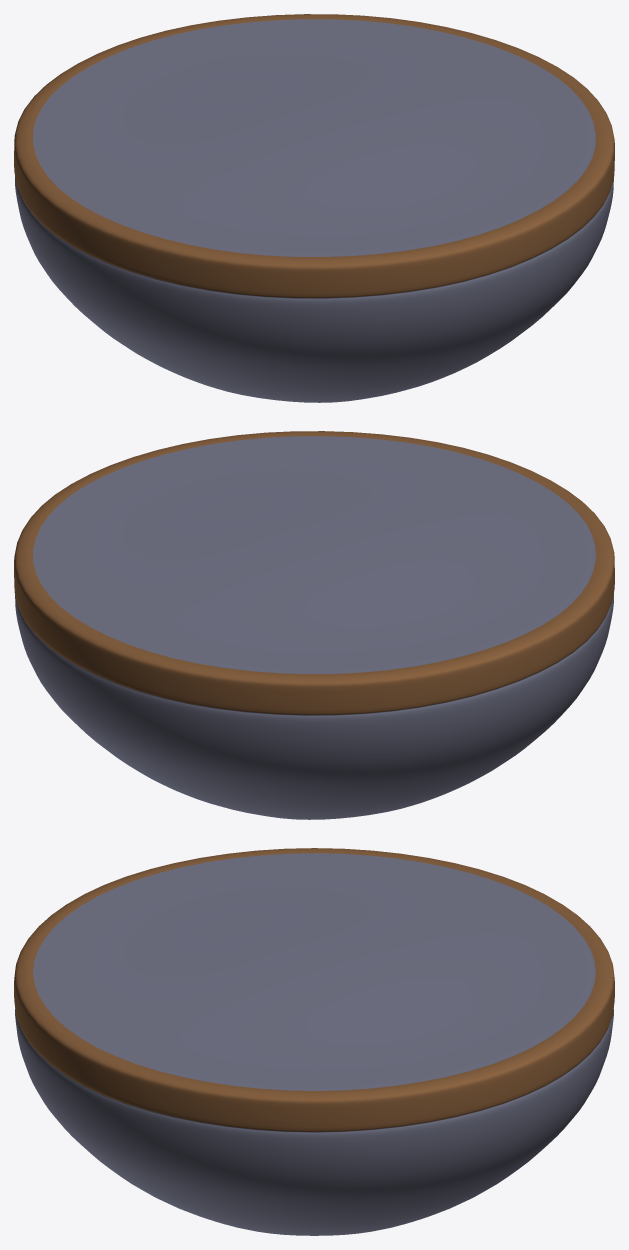
The model's file is BubbleCity.fbx.
The picture shows the model from 3 angles, top to bottom: view 1: azimuth 30°, elevation 25°; view 2: azimuth 150°, elevation 25°; view 3: azimuth 270°, elevation 25°; orthographic projection.
Visible parts, largest first — view 1: BubbleCity; view 2: BubbleCity; view 3: BubbleCity.
Boxes of the visible parts, x1=… form: BubbleCity: x1=14, y1=14, x2=614, y2=402; BubbleCity: x1=14, y1=431, x2=614, y2=819; BubbleCity: x1=14, y1=848, x2=614, y2=1235.
Size of the model in its own units: 8569 by 3629 by 8569.
